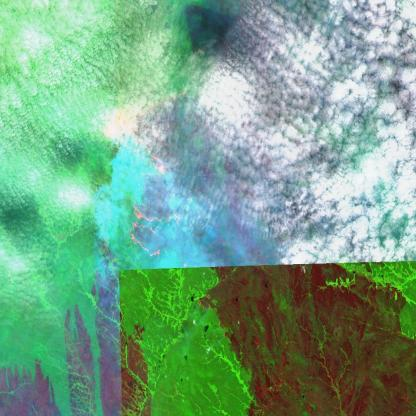fire: (107, 88, 194, 262)
